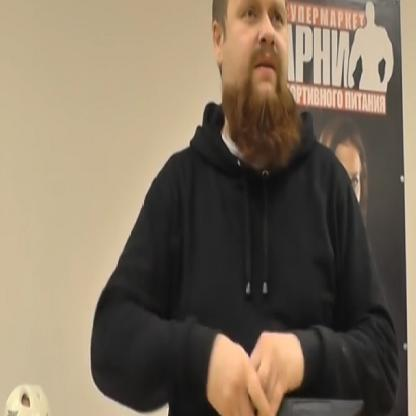knife: (218, 351, 368, 415)
